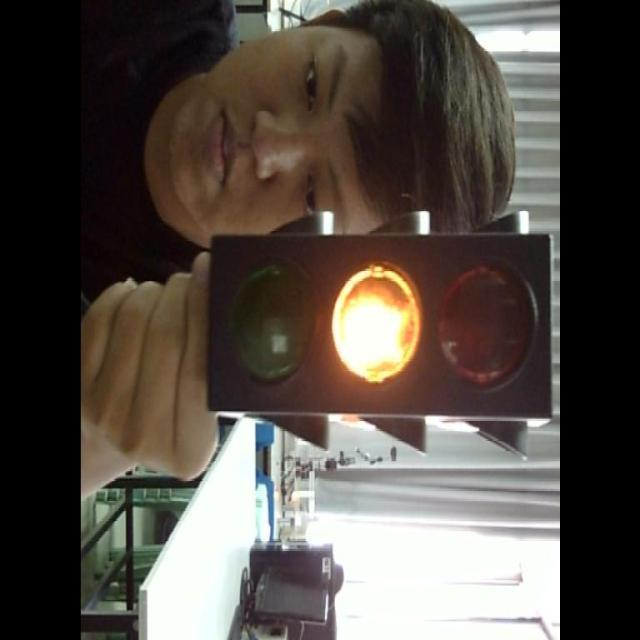yellow_light: (207, 233, 548, 415)
